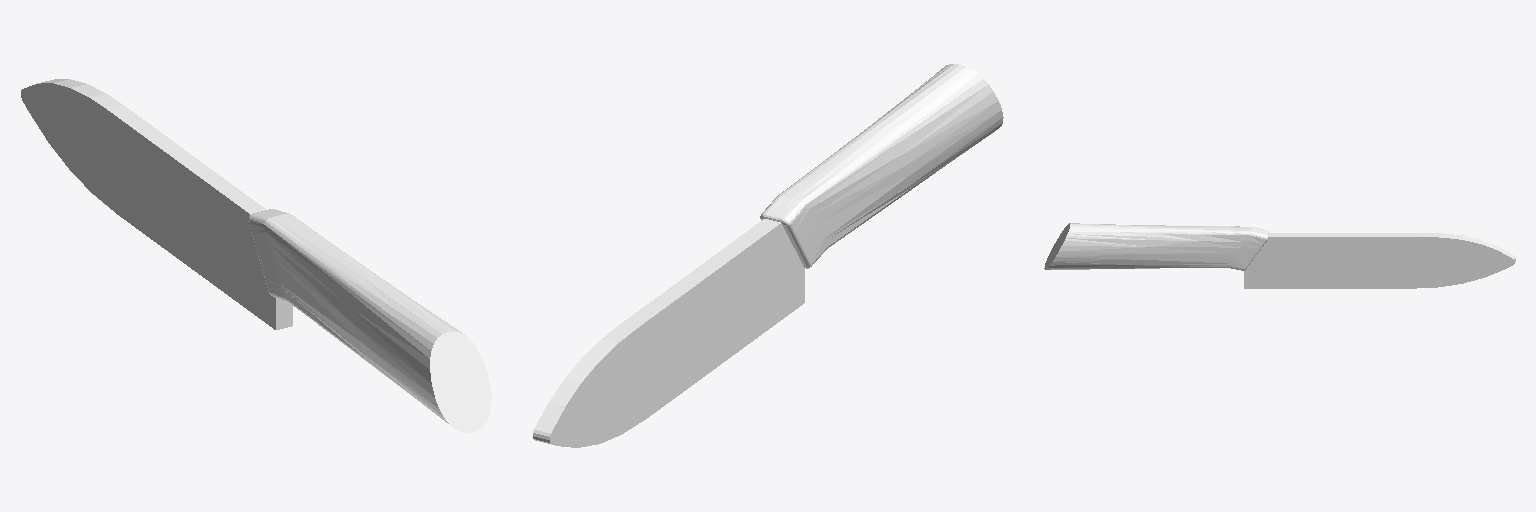
robot.urdf — cube.urdf:
<?xml version="0.0" ?>
<robot name="cube.urdf">
  <link name="baseLink">
    <contact>
      <lateral_friction value="0.3"/>
      <stiffness value="10000.0"/>
    </contact>
    <inertial>
      <origin rpy="0 0 0" xyz="0 0 0"/>
       <mass value="0.1"/>
       <inertia ixx="1" ixy="0" ixz="0" iyy="1" iyz="0" izz="1"/>
    </inertial>
    <visual>
      <origin rpy="0 0 0" xyz="0 0 0"/>
      <geometry>
            <mesh filename="knife.stl" scale="0.001 0.001 0.001"/>
      </geometry>
       <material name="white">
        <color rgba="1 1 1 1"/>
      </material>
    </visual>
    <collision>
      <origin rpy="0 0 0" xyz="0 0 0"/>
      <geometry>
	 	<mesh filename="knife.stl" scale="0.001 0.001 0.001"/>
      </geometry>
    </collision>
  </link>  
</robot>

--- Render facts (derived) ---
The picture shows the robot from 3 angles, left to right: view 1: azimuth 30°, elevation 25°; view 2: azimuth 150°, elevation 25°; view 3: azimuth 270°, elevation 25°; orthographic projection.
Model cube.urdf with 1 links and 0 joints (none), rooted at baseLink, posed every joint at zero.
Visible links, largest first — view 1: baseLink; view 2: baseLink; view 3: baseLink.
Boxes of the visible links, x1,y1,x2,y2 form: baseLink: (21, 79, 491, 432); baseLink: (533, 64, 1003, 447); baseLink: (1044, 223, 1515, 288).
Size in the robot's own frame: 0.0178 by 0.2475 by 0.0358 metres.
Meshes: 1 distinct files referenced, 1 mesh visuals loaded (1 binary STL).